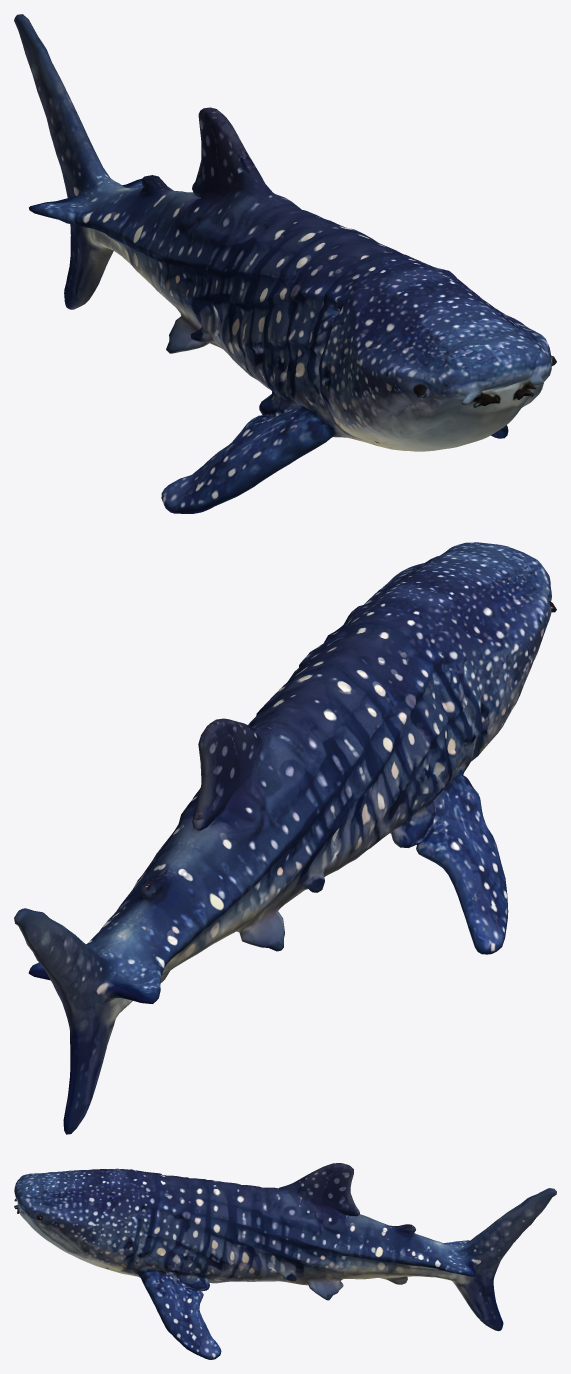
The model's file is whale_shark.glb.
3 views of the same model, one above another, from view 1: azimuth 30°, elevation 25°; view 2: azimuth 150°, elevation 25°; view 3: azimuth 270°, elevation 25° (orthographic). The views are drawn at different scales.
Parts seen in each view (by area): view 1: tripo_node_15dd5bac-4fb5-4c79-94c8-0ac5b016907e; view 2: tripo_node_15dd5bac-4fb5-4c79-94c8-0ac5b016907e; view 3: tripo_node_15dd5bac-4fb5-4c79-94c8-0ac5b016907e.
Boxes of the visible parts, <box> form: tripo_node_15dd5bac-4fb5-4c79-94c8-0ac5b016907e: <box>14,14,556,513</box>; tripo_node_15dd5bac-4fb5-4c79-94c8-0ac5b016907e: <box>14,542,556,1134</box>; tripo_node_15dd5bac-4fb5-4c79-94c8-0ac5b016907e: <box>14,1163,556,1359</box>.
Bounding box in the file's own units: 0.3912 × 0.3412 × 1.
Materials: 1 (1 with a texture image).
